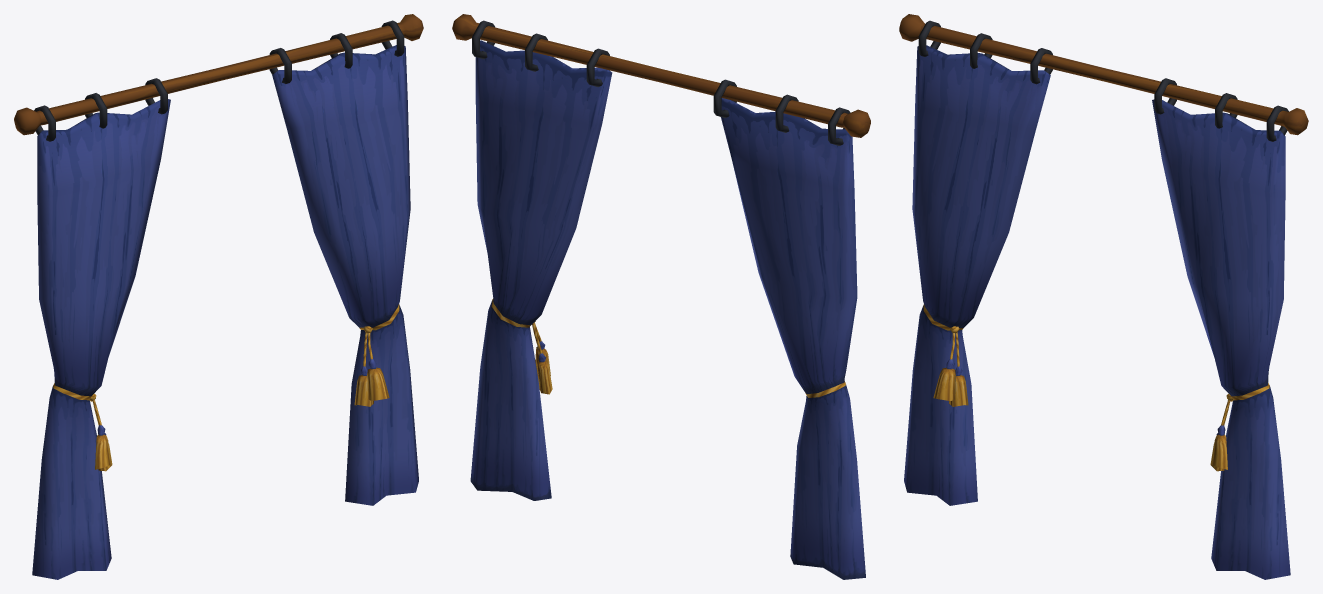
File: SM_PROP_curtain_city_01.fbx
3 renders of one model, left to right at view 1: azimuth 30°, elevation 25°; view 2: azimuth 150°, elevation 25°; view 3: azimuth 330°, elevation 25°, orthographic. The views are drawn at different scales.
Visible parts, largest first — view 1: SM_PROP_curtain_city_01; view 2: SM_PROP_curtain_city_01; view 3: SM_PROP_curtain_city_01.
Boxes of the visible parts, x1,y1,x2,y2 form: SM_PROP_curtain_city_01: (14, 14, 423, 579); SM_PROP_curtain_city_01: (452, 14, 870, 579); SM_PROP_curtain_city_01: (899, 14, 1308, 579).
Size of the model in its own units: 192 by 210 by 28.44.
